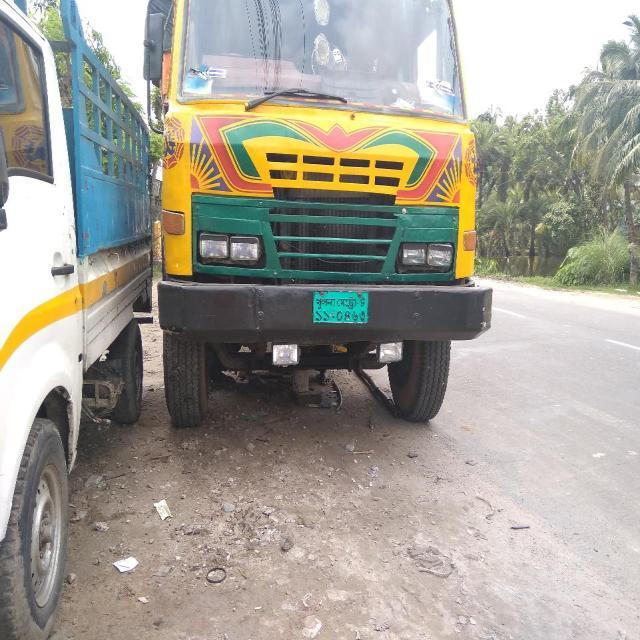numberplate: (311, 290, 369, 324)
